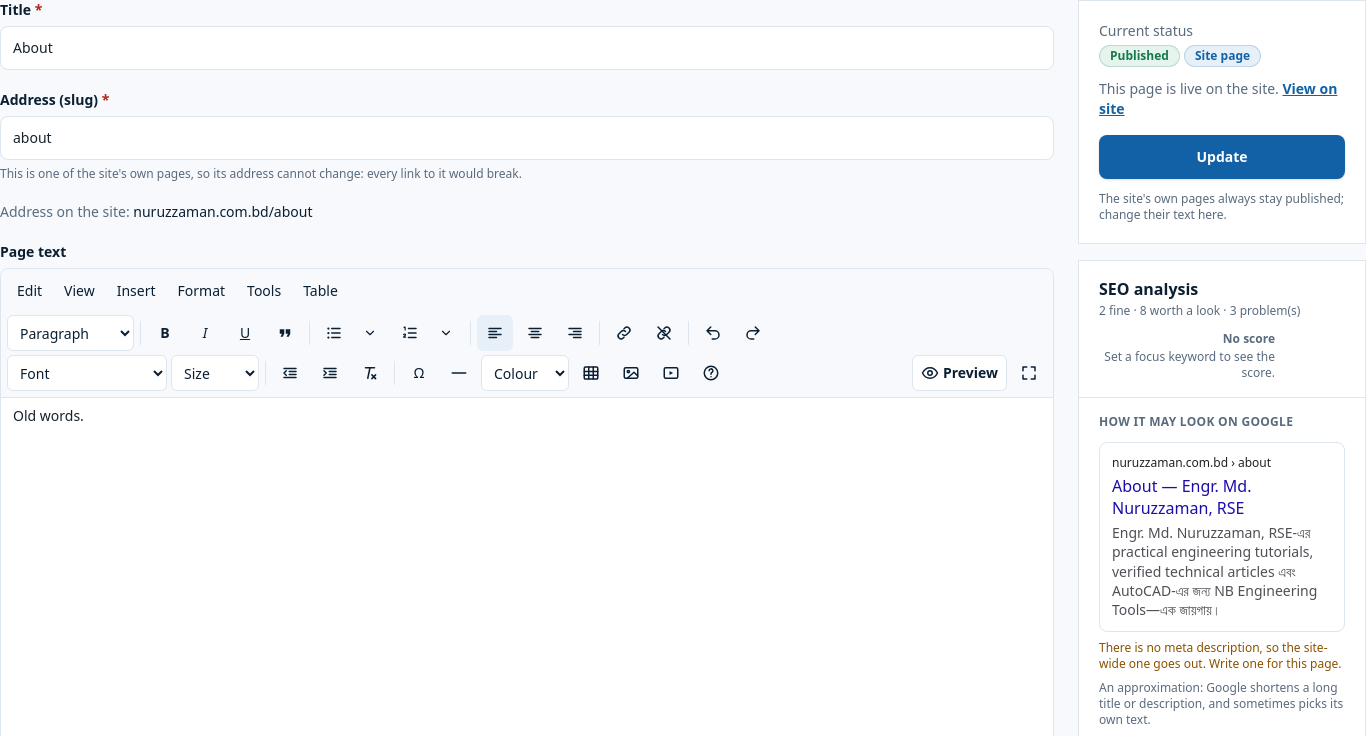
Test: PageEditor › saves the words of a site page without moving it or taking it offline
Replace the text in the field labelled "Title *" with "About me" at (527, 48), box [0,26,1054,70]
(page scrolled)
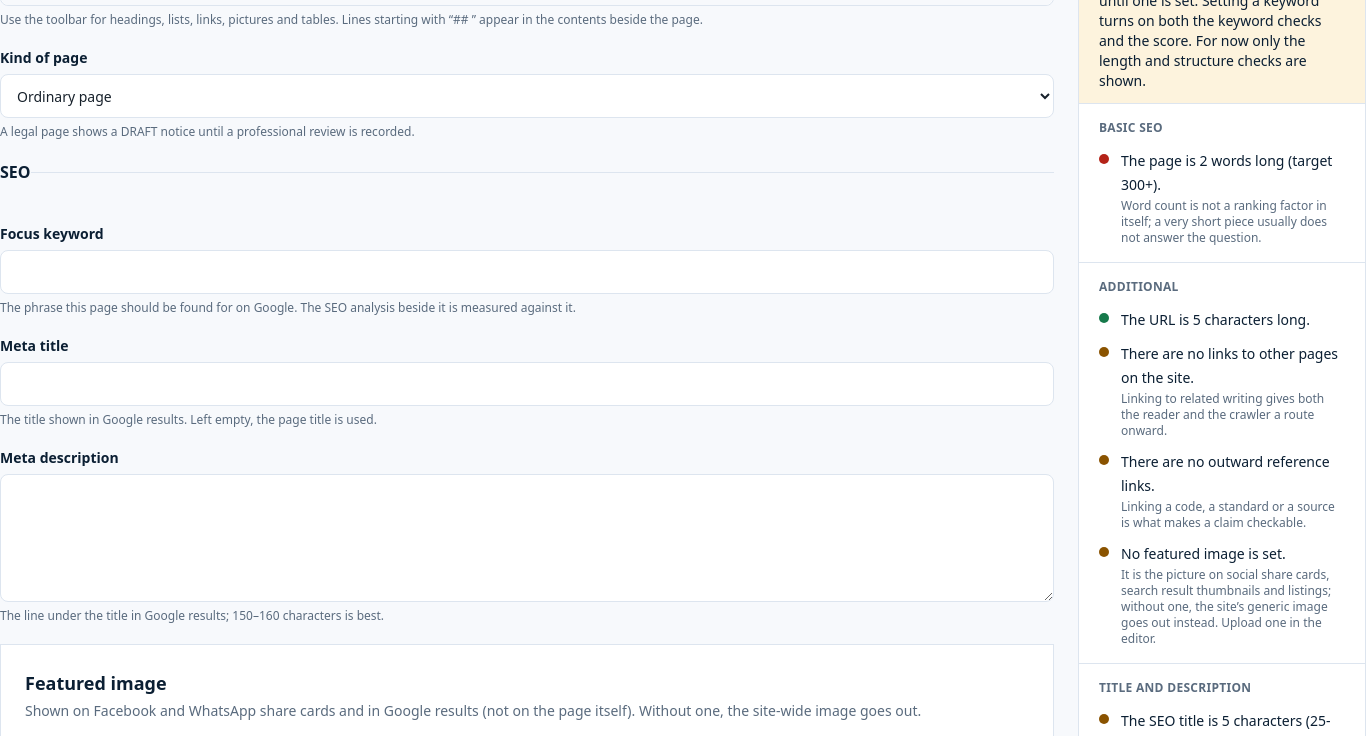
Type "About Nuruzzaman" into the field labelled "Meta title" at (527, 384), box [0,362,1054,406]
(page scrolled)
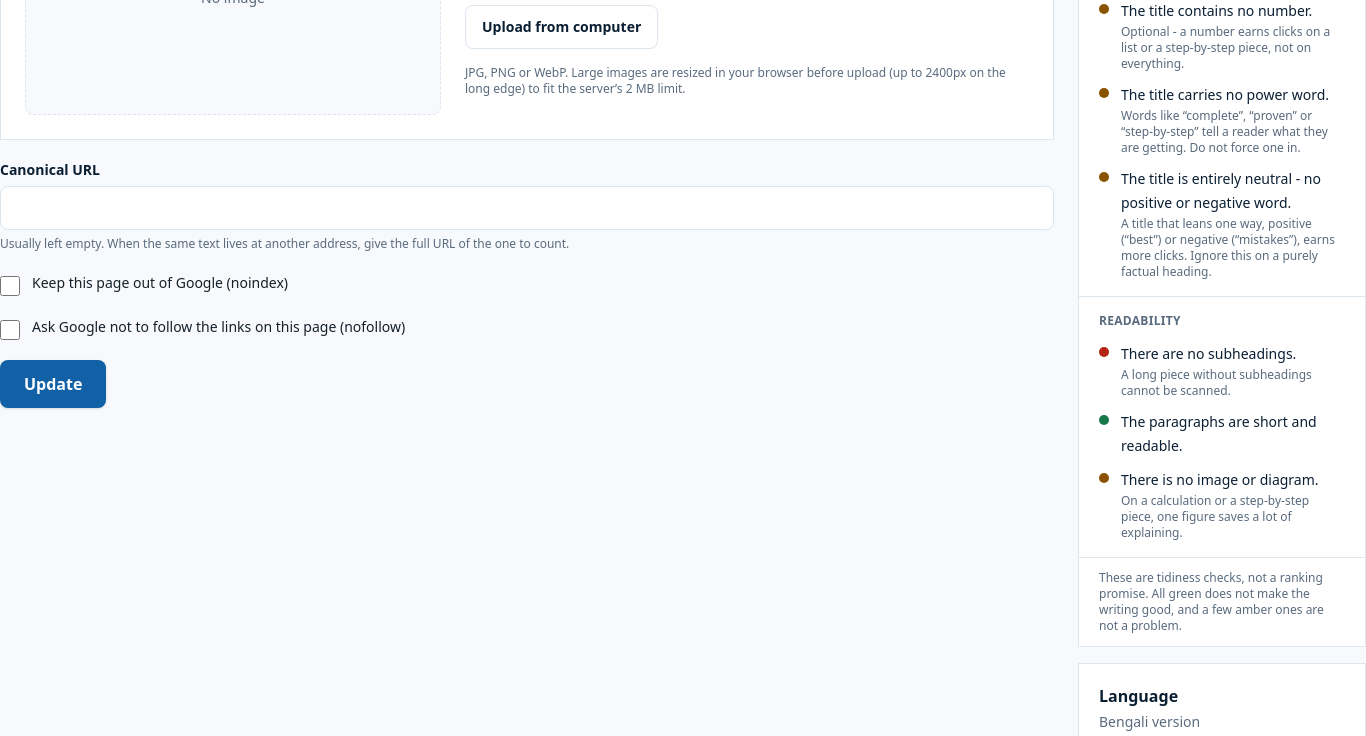
Click the button "Update" at (53, 384), box [0,360,106,408]
(page scrolled)
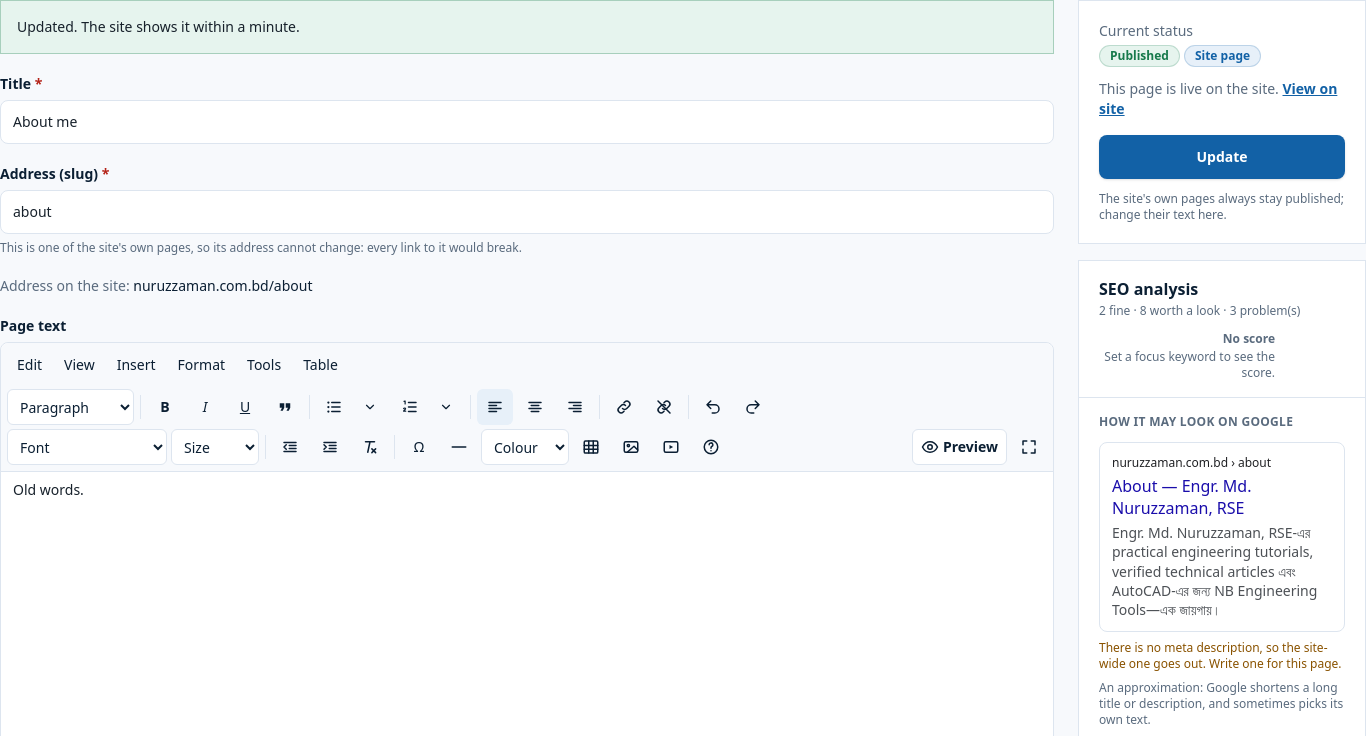
Check: the text "Updated. The site shows it within a minute." is shown, box [17,17,300,36]
